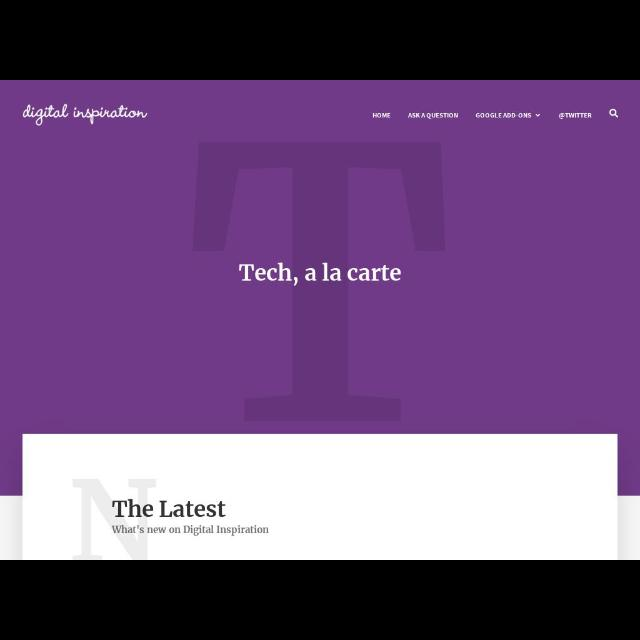backgroundimage: (1, 80, 640, 560)
icon: (610, 108, 618, 118), (536, 114, 540, 116)
text: (239, 262, 401, 286), (22, 104, 148, 126), (112, 499, 225, 517), (112, 524, 268, 536), (408, 113, 458, 119), (558, 112, 592, 120), (476, 114, 532, 118), (374, 114, 391, 118)
